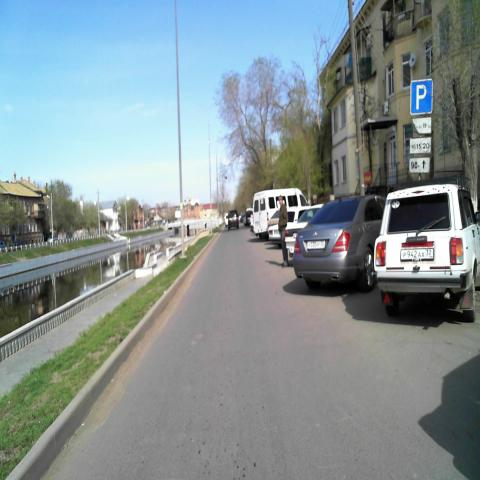6_4: (410, 80, 433, 114)
